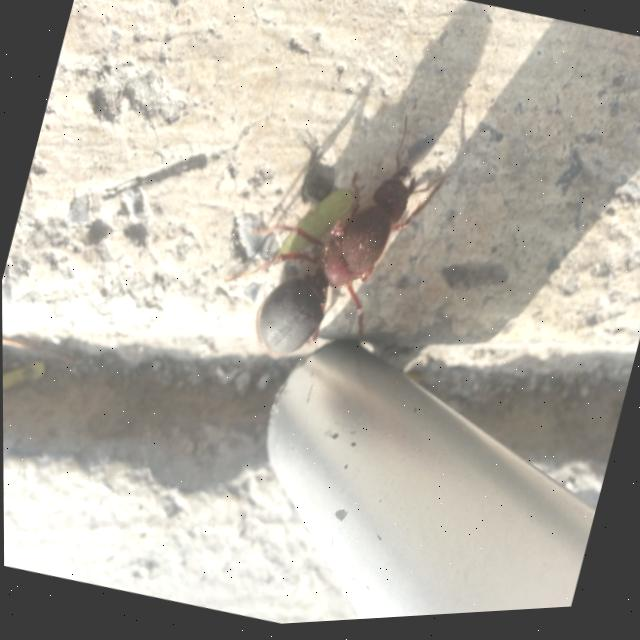Alive-Female-Dealate: (219, 88, 456, 392)
